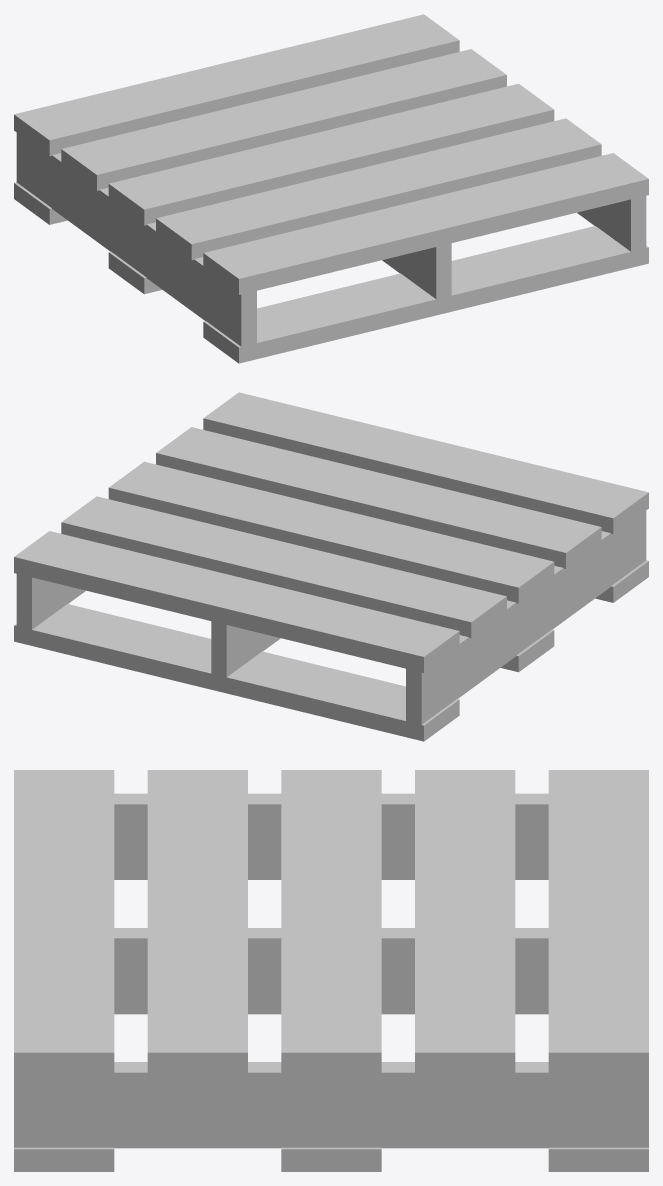
Rendered from Pallet.fbx.
3 views of the same model, one above another, from view 1: azimuth 30°, elevation 25°; view 2: azimuth 150°, elevation 25°; view 3: azimuth 270°, elevation 25° (orthographic). The views are drawn at different scales.
Visible parts, largest first — view 1: Cube.010; view 2: Cube.010; view 3: Cube.010.
Boxes of the visible parts, bbox=[...] form: Cube.010: bbox=[14, 14, 648, 363]; Cube.010: bbox=[14, 392, 648, 741]; Cube.010: bbox=[14, 770, 648, 1171].
Size of the model in its own units: 200 by 39.45 by 190.
